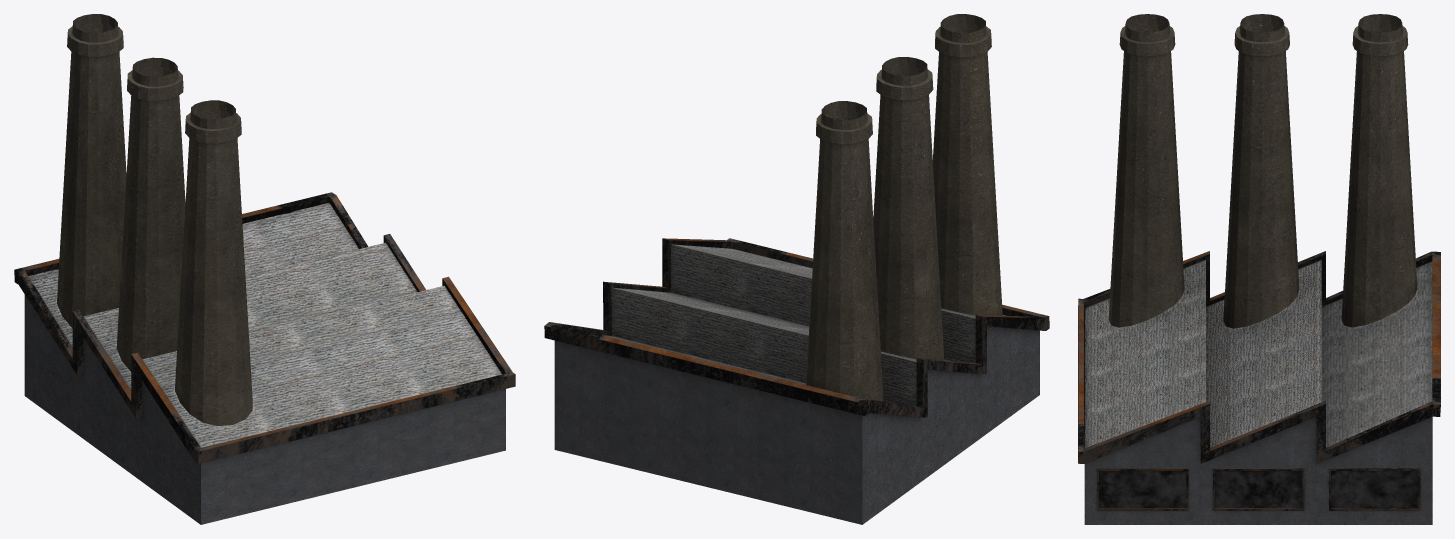
3 views of the same model, side by side, from view 1: azimuth 30°, elevation 25°; view 2: azimuth 150°, elevation 25°; view 3: azimuth 270°, elevation 25° (orthographic). The views are drawn at different scales.
Visible parts, largest first — view 1: Mesh; view 2: Mesh; view 3: Mesh.
Boxes of the visible parts, left/top/right/bottom form: Mesh: left=14, top=14, right=515, bottom=524; Mesh: left=544, top=14, right=1049, bottom=524; Mesh: left=1078, top=14, right=1440, bottom=524.
Bounding box in the file's own units: 104 × 119 × 104.
5 materials, 5 textured.
